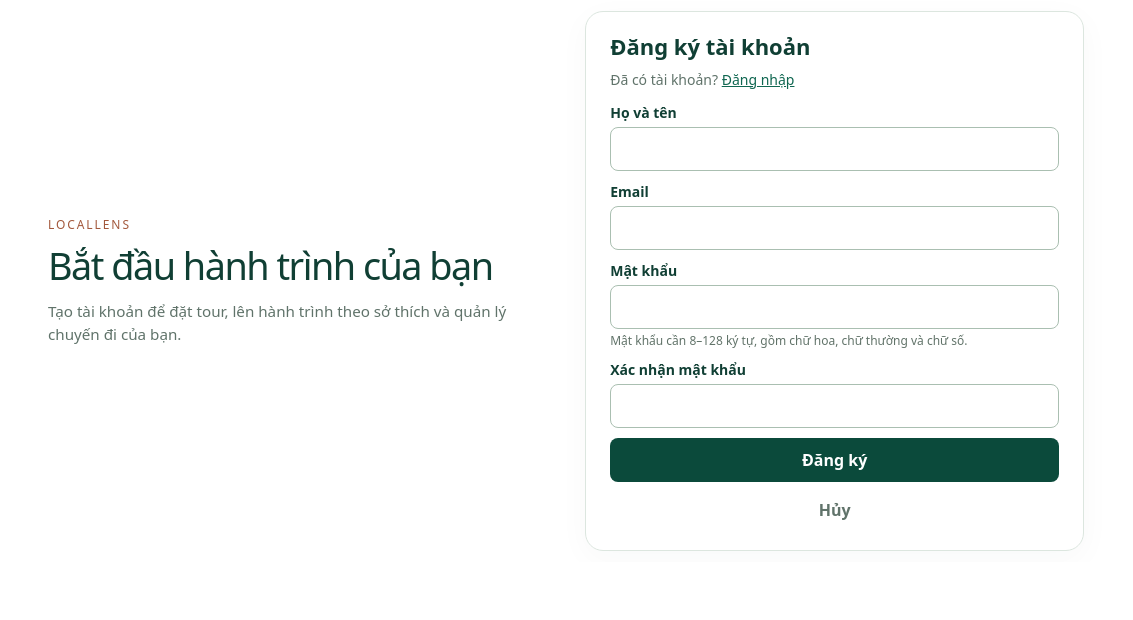
it: reports duplicate email and lets the customer correct it
Type "Tour Tester" into the field labelled "Họ và tên" at (835, 149), box [610,127,1059,171]
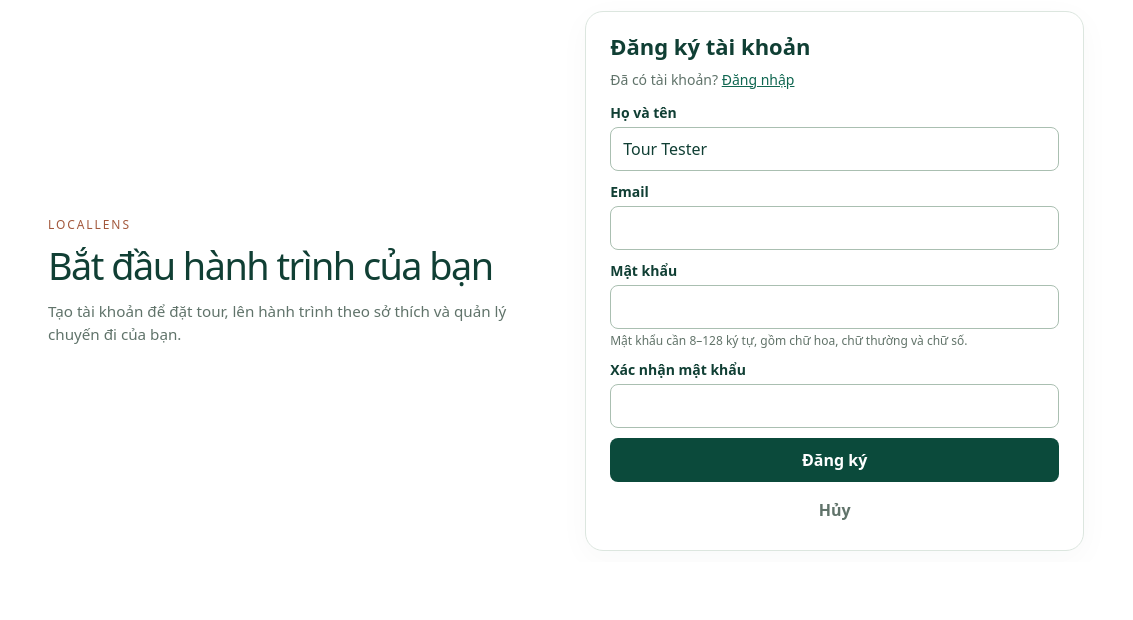
Type "traveler@example.test" into the field labelled "Email" at (835, 228), box [610,206,1059,250]
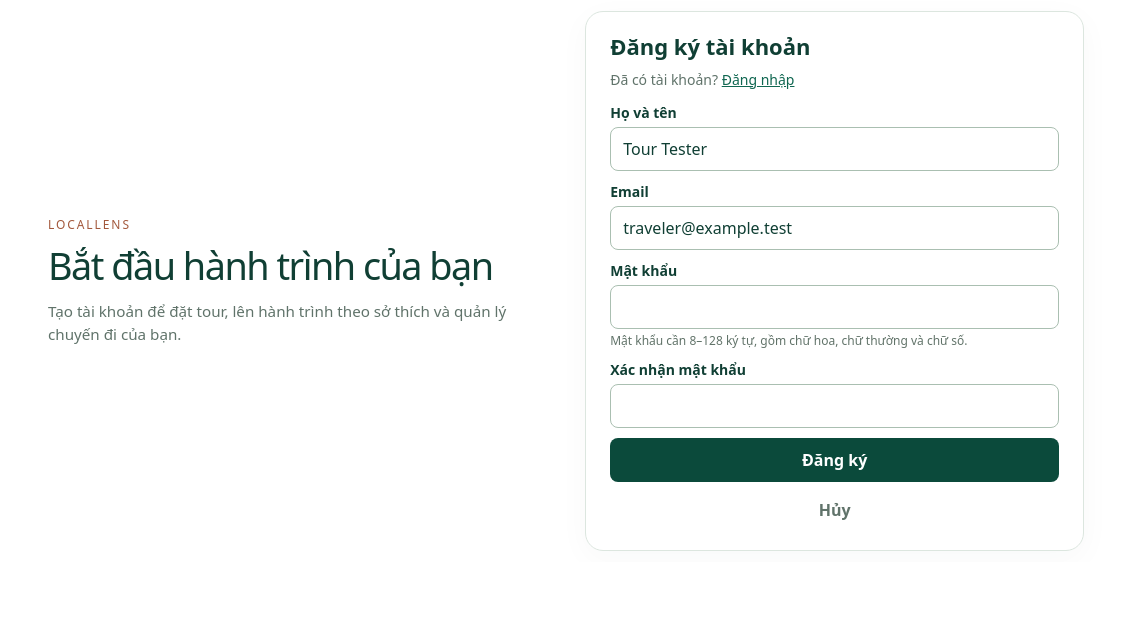
Type "TestPassword42" into the password field labelled "Mật khẩu" at (835, 307), box [610,285,1059,329]
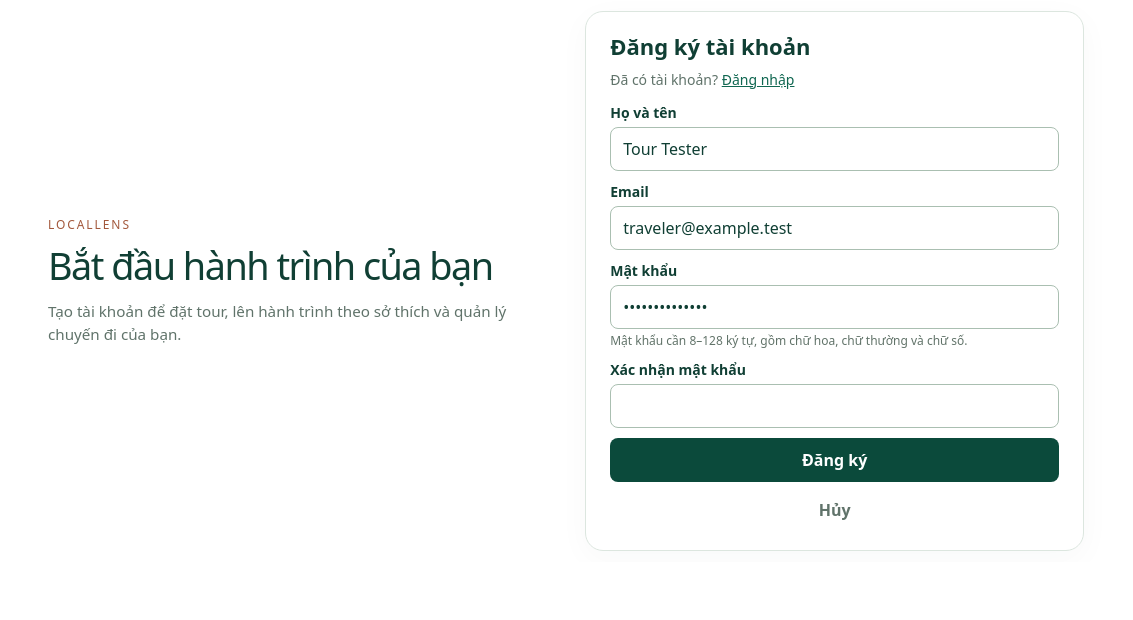
Type "TestPassword42" into the password field labelled "Xác nhận mật khẩu" at (835, 406), box [610,384,1059,428]
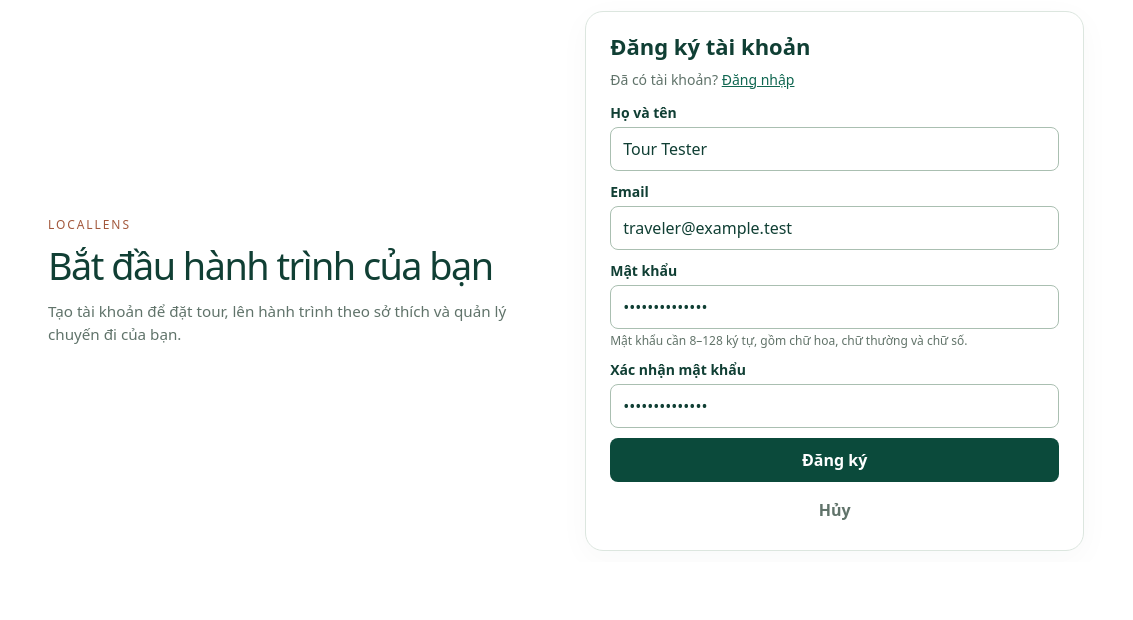
Click the button "Đăng ký" at (835, 460), box [610,438,1059,482]
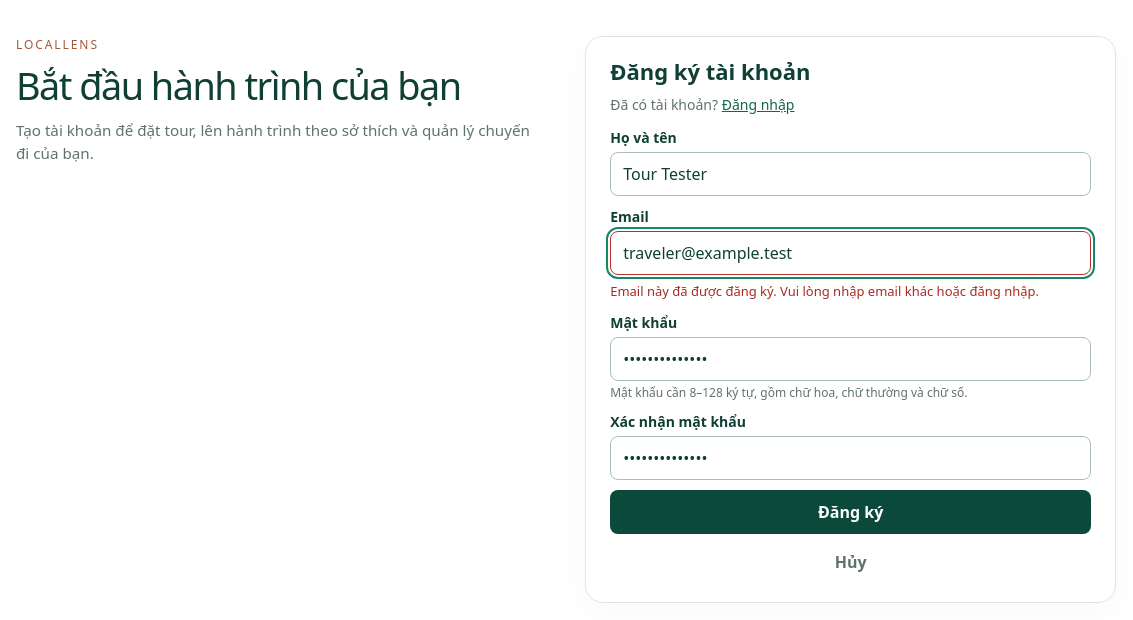
Expected: the message shows "Email này đã được đăng ký", [610,282,1039,300]
